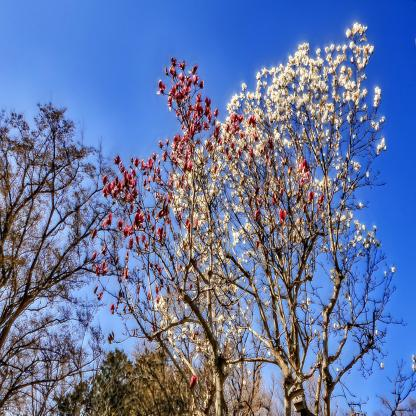Mokuren: (227, 15, 416, 416), (91, 59, 255, 397)
